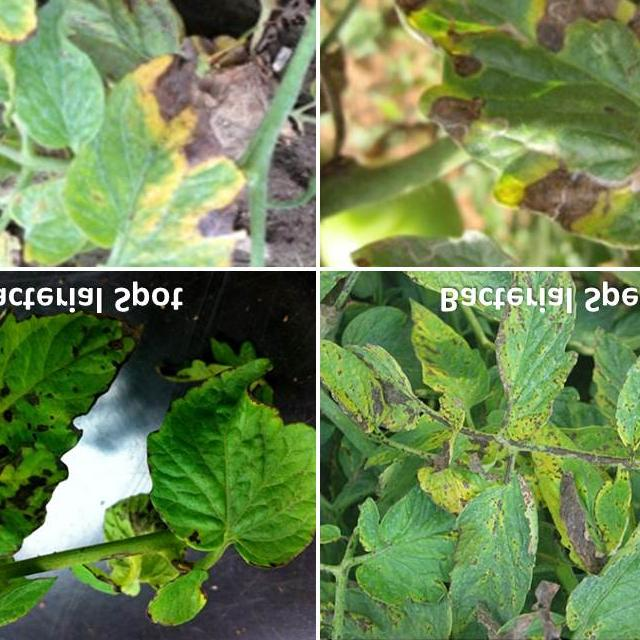Tomato Early blight leaf: (0, 0, 262, 256), (119, 329, 314, 560), (0, 290, 138, 558), (435, 458, 549, 636), (478, 276, 585, 464), (569, 434, 640, 636), (588, 473, 639, 564), (603, 354, 640, 471)
